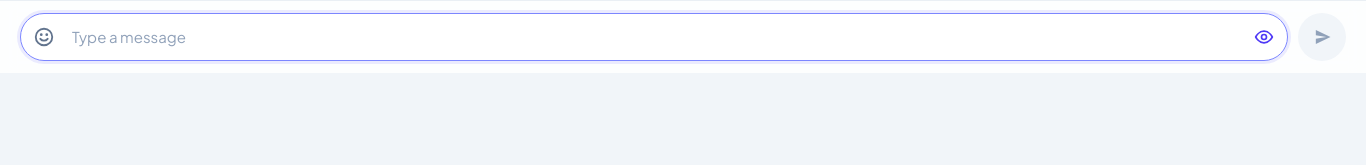
it: Composer translation preview › shows a friendly message if the preview fails
Type "Hello" into the text box labelled "message". click: (654, 37)
box: [68, 19, 1240, 55]
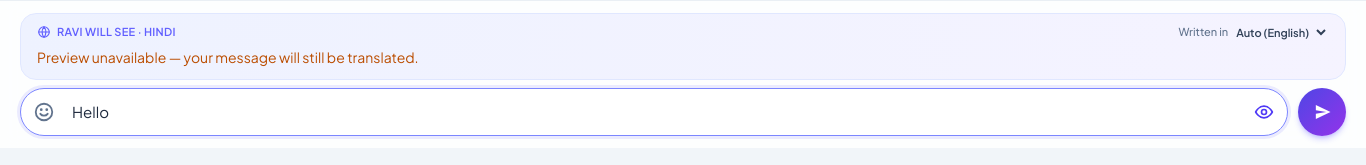
Expected: the text "Preview unavailable — your message will still be translated." is shown, [37, 48, 419, 66]
